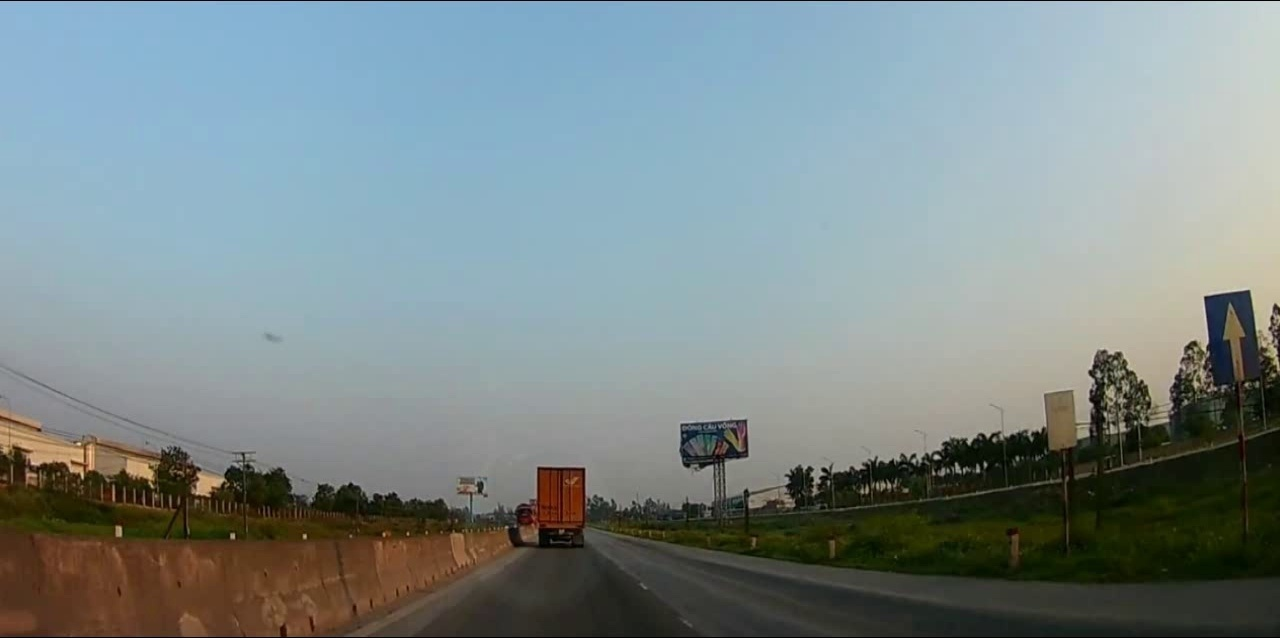Bien khac: (1206, 290, 1262, 386)
